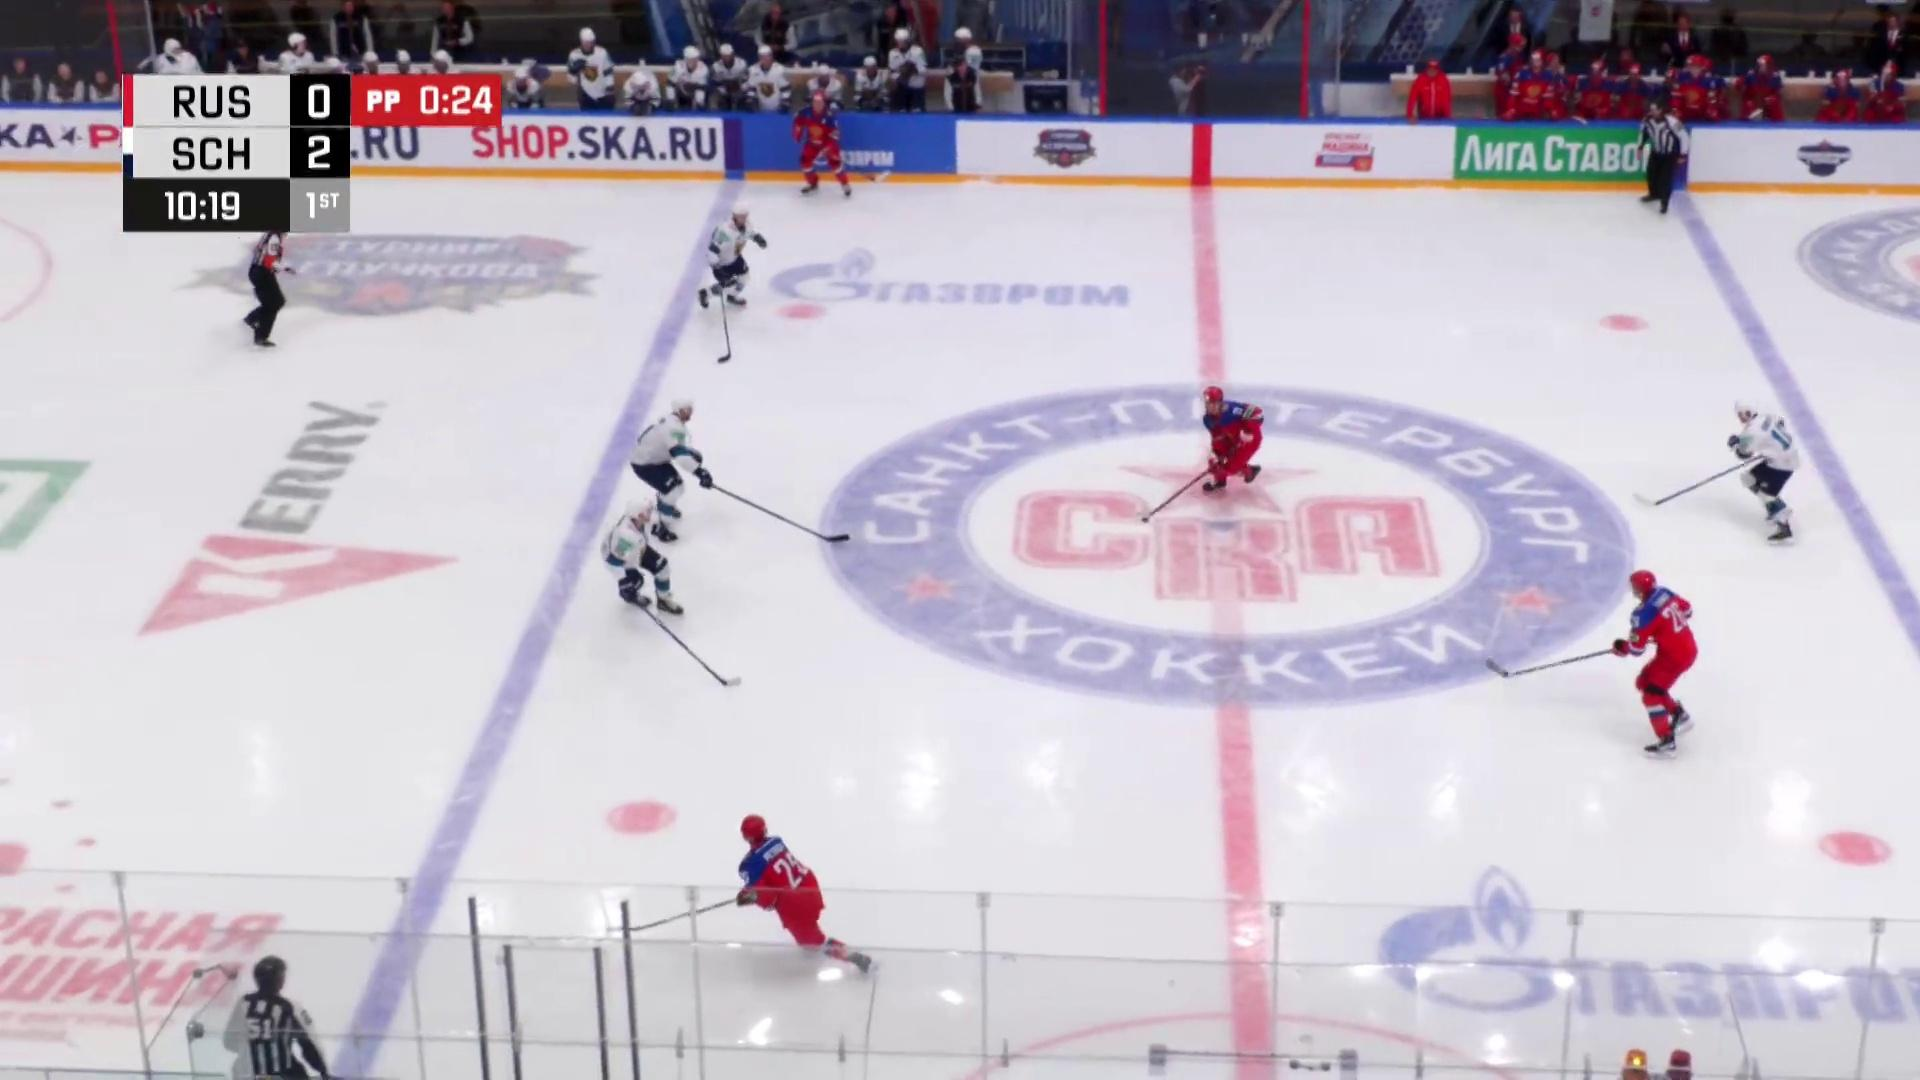ball: (1141, 517, 1150, 524)
